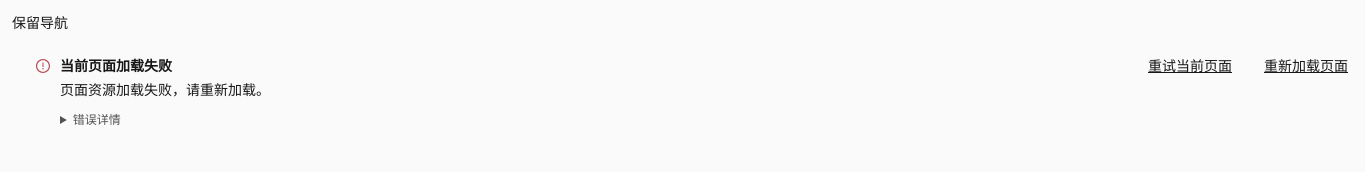
Scenario: can recover an exhausted resource download with local retry
expect the text "页面资源加载失败，请重新加载。" is shown: met, box [60, 80, 270, 99]
Click the button "重试当前页面".
click(1190, 66)  # box [1142, 54, 1238, 78]
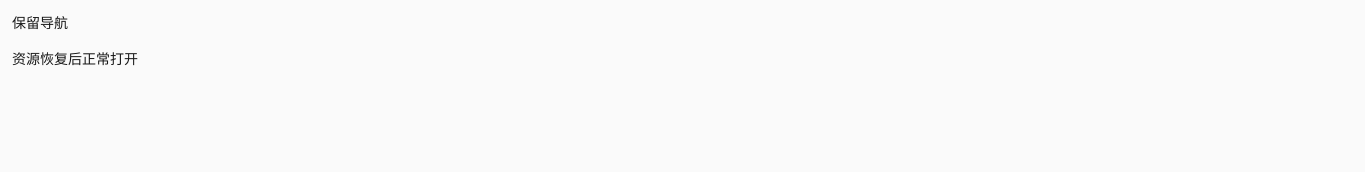
expect the text "保留导航" is shown: met, box [12, 13, 68, 32]
expect the text "资源恢复后正常打开" is shown: met, box [12, 49, 138, 68]
